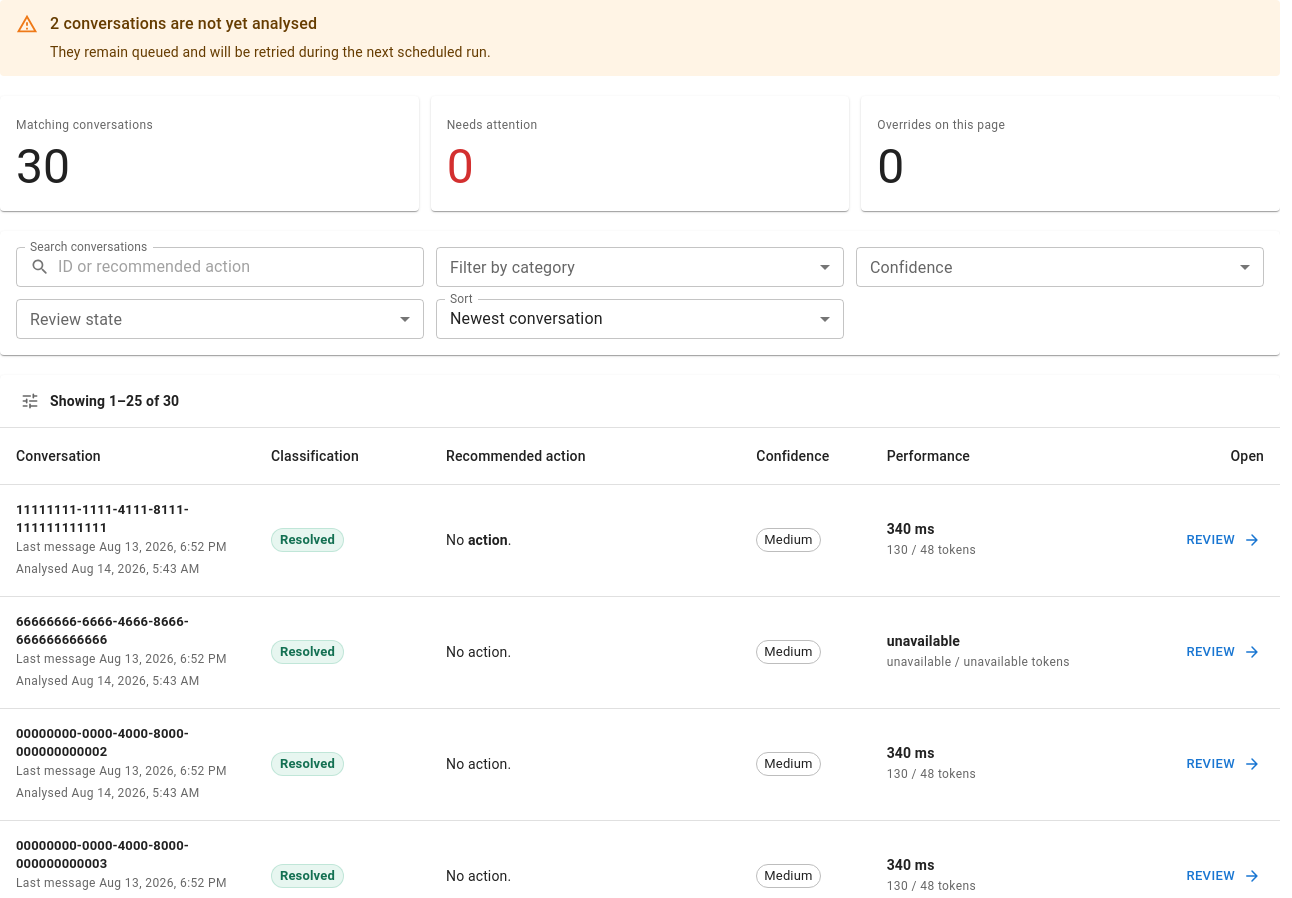
Test case: ReviewerTable › searches the server by conversation ID or recommended action
Check: the link "11111111-1111-4111-8111-111111111111" is shown, box [16,502,189,535]
Type "no matching conversation" into the field labelled "Search conversations" at [241, 267], box [58,247,424,287]
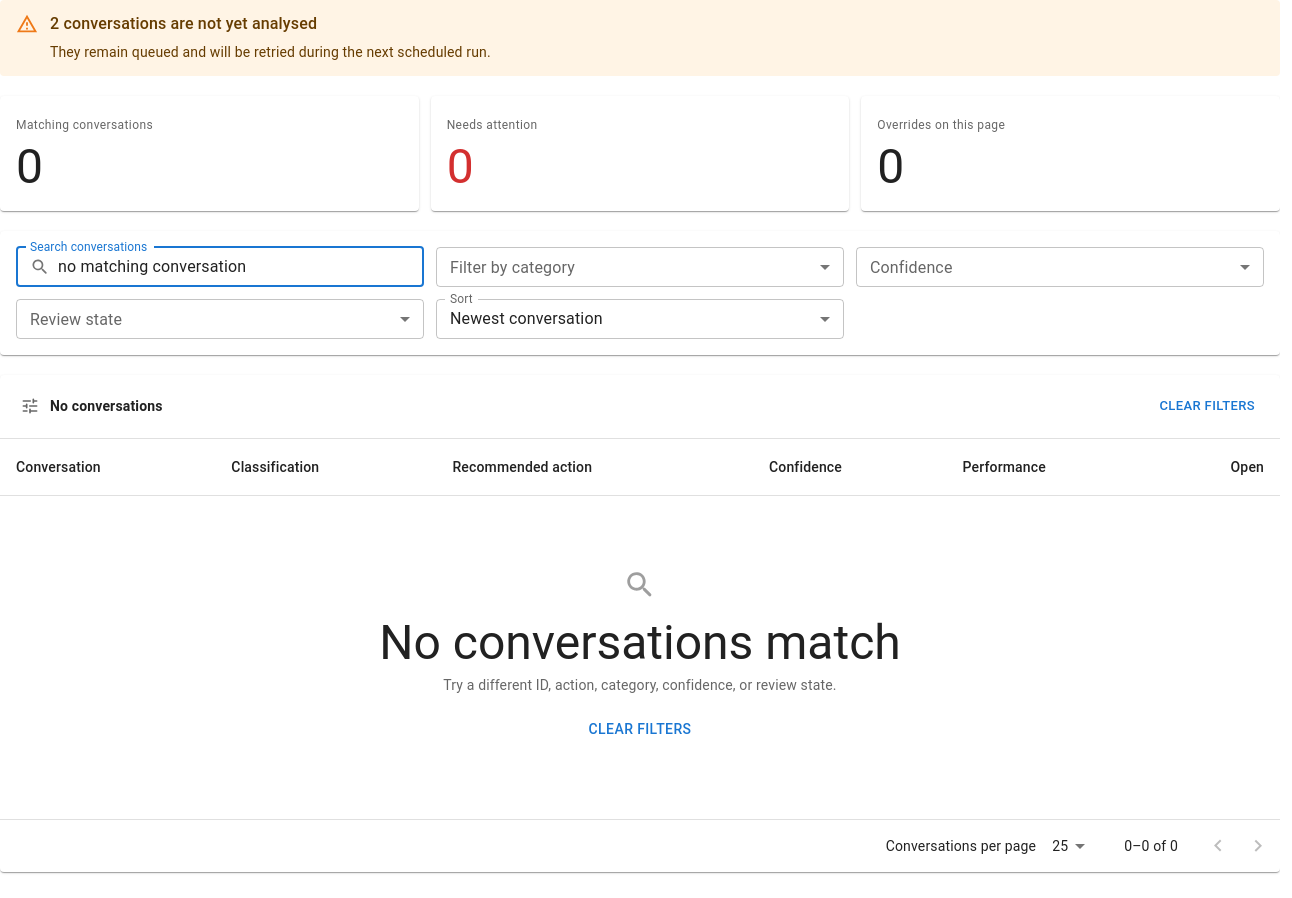
Check: the heading "No conversations match" is shown, box [379,614,901,671]
